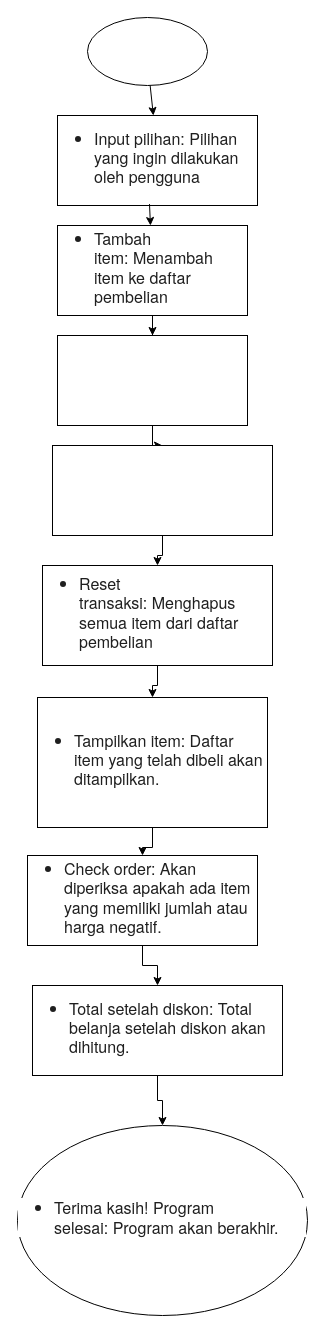
Image size: 325x1333. Some labels were removed from this diagram. Each missing label, with the centre of its shape:
Hapus item: Menghapus item dari daftar pembelian: [152,380]
Hitung total: Menghitung total belanja: [162,490]
start: [147,51]
